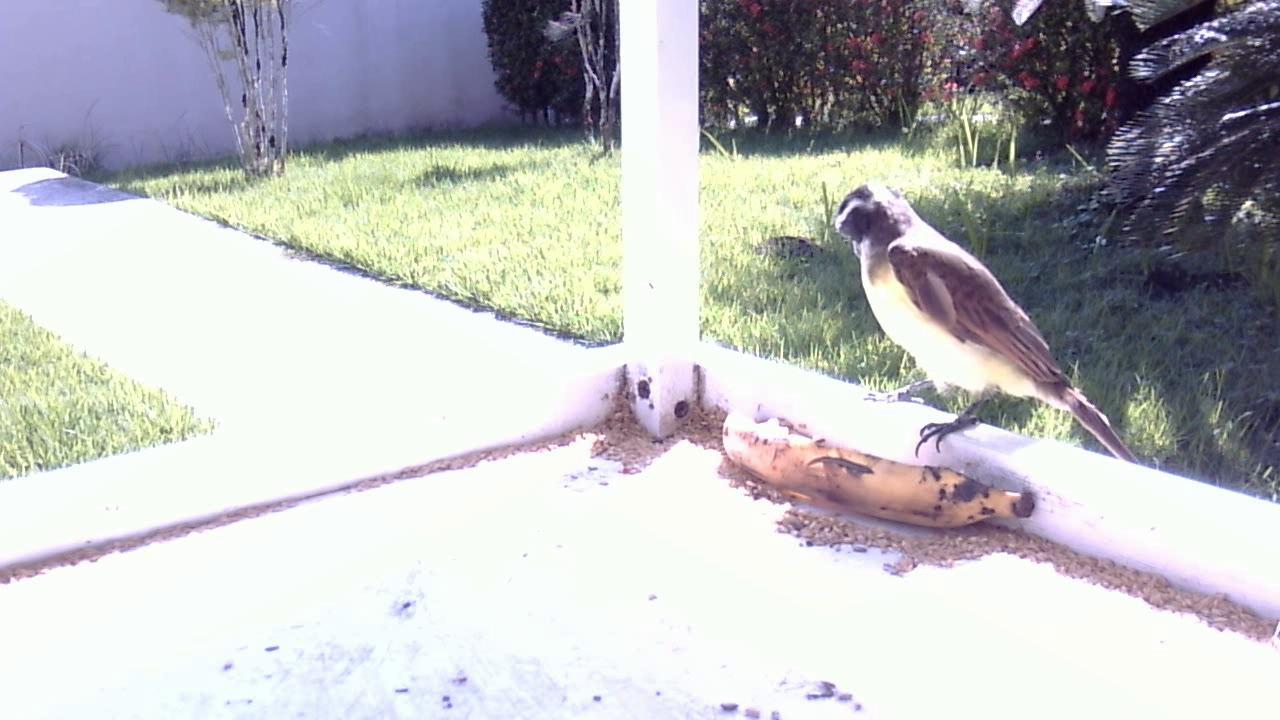bem_te_vi: (822, 172, 1152, 482)
